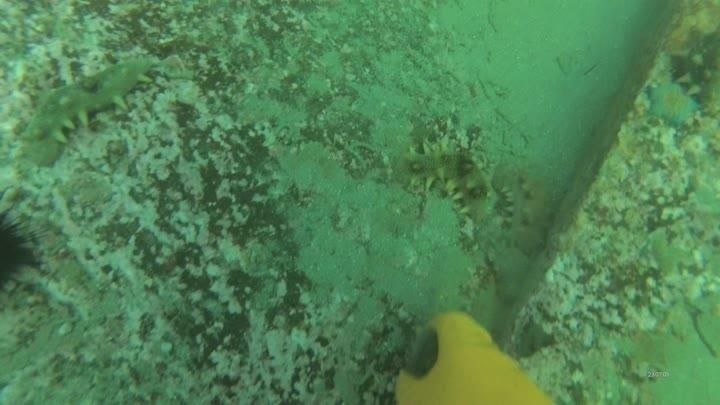echinus: (0, 209, 44, 295)
holothurian: (16, 53, 158, 169), (395, 139, 499, 228), (494, 164, 556, 256), (667, 22, 720, 120)
starfish: (643, 78, 702, 129)
